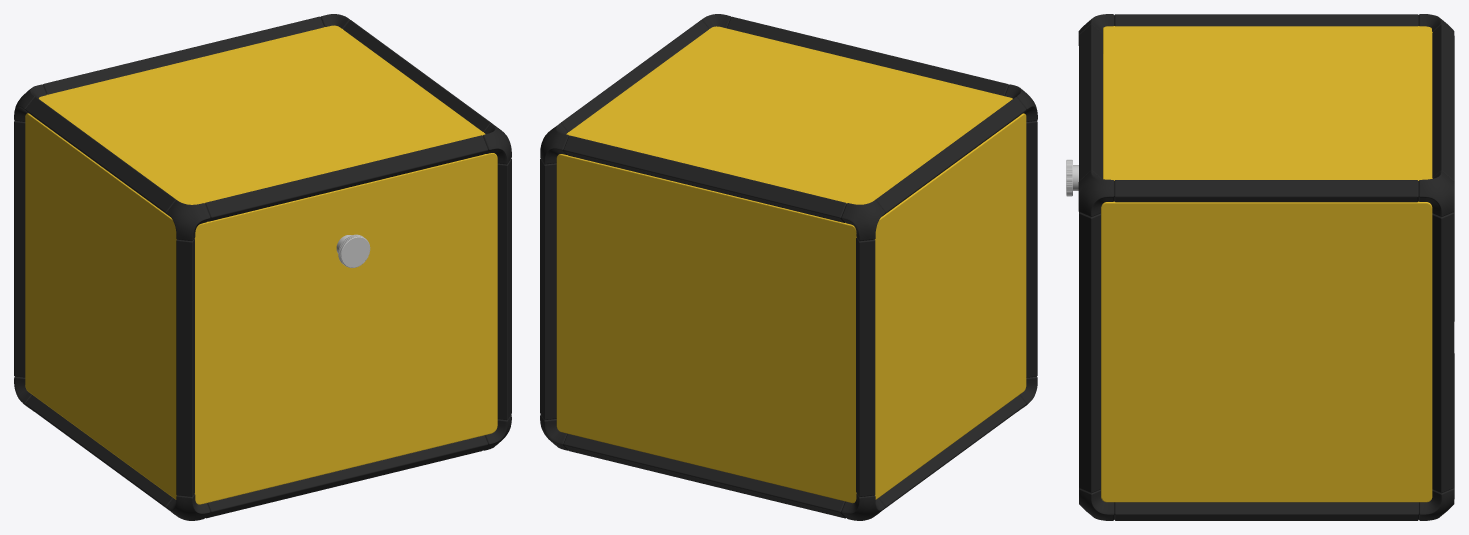
The picture shows the model from 3 angles, left to right: view 1: azimuth 30°, elevation 25°; view 2: azimuth 150°, elevation 25°; view 3: azimuth 270°, elevation 25°; orthographic projection. The views are drawn at different scales.
Parts seen in each view (by area): view 1: 374x329x329; view 2: 374x329x329; view 3: 374x329x329.
Part boxes in pixels (x1,y1,x2,y2): 374x329x329: (14,14,511,520); 374x329x329: (540,14,1037,520); 374x329x329: (1066,14,1454,520).
Size of the model in its own units: 0.4517 by 0.4067 by 0.4196.
